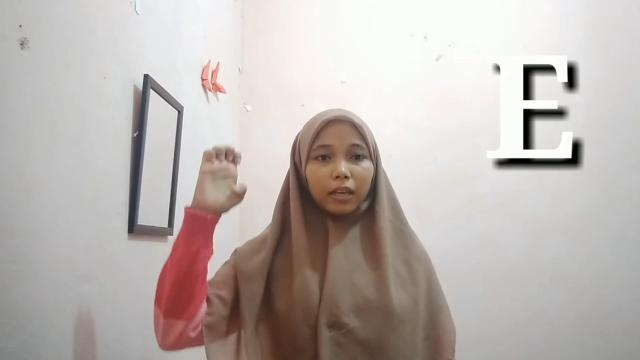E: (196, 142, 248, 216)
